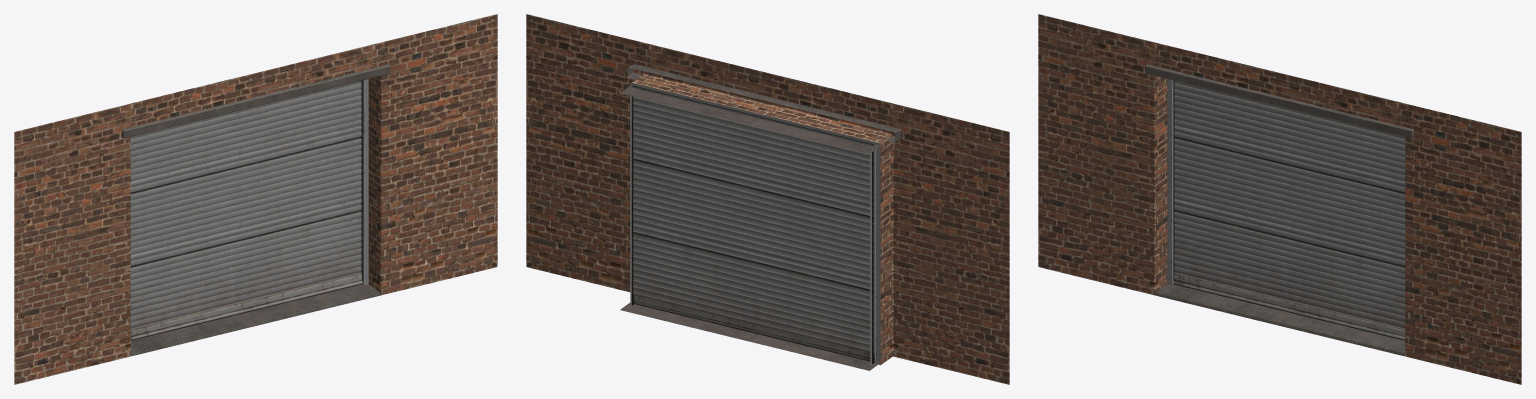
The model's file is FactoryGarage.glb.
3 views of the same model, side by side, from view 1: azimuth 30°, elevation 25°; view 2: azimuth 150°, elevation 25°; view 3: azimuth 330°, elevation 25° (orthographic).
Visible parts, largest first — view 1: wall_door_garage_centered_01, door_garage_centered_01; view 2: wall_door_garage_centered_01, door_garage_centered_01; view 3: wall_door_garage_centered_01, door_garage_centered_01.
Boxes of the visible parts, bbox=[...] form: wall_door_garage_centered_01: bbox=[14, 14, 497, 384]; door_garage_centered_01: bbox=[122, 64, 390, 356]; wall_door_garage_centered_01: bbox=[526, 14, 1009, 384]; door_garage_centered_01: bbox=[620, 64, 901, 370]; wall_door_garage_centered_01: bbox=[1038, 14, 1521, 384]; door_garage_centered_01: bbox=[1145, 64, 1413, 356].
Size of the model in its own units: 6 by 3 by 0.53.
3 materials, 3 textured.
